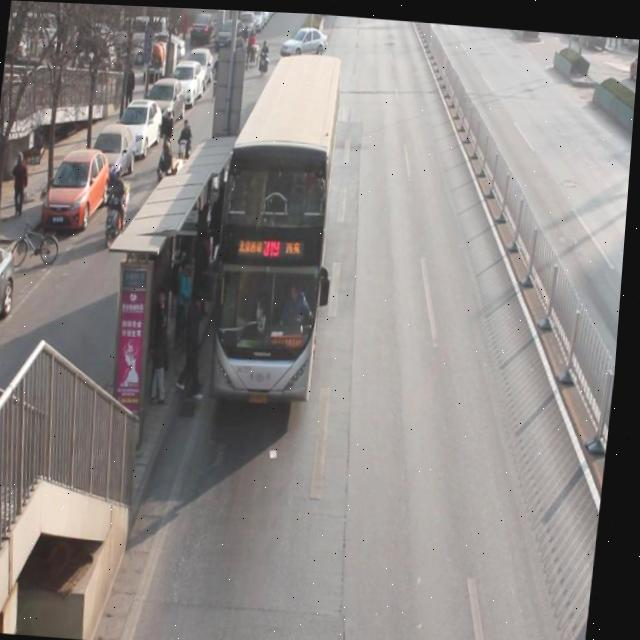car: (294, 24, 331, 53)
van: (206, 41, 348, 398)
